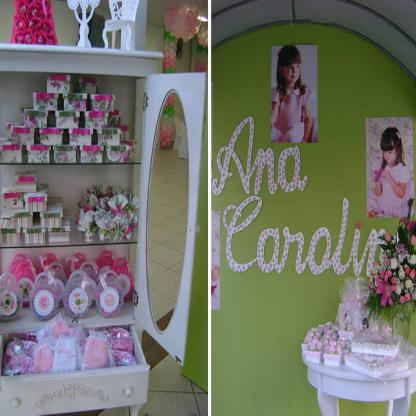face: (284, 59, 301, 83), (384, 141, 397, 165)
